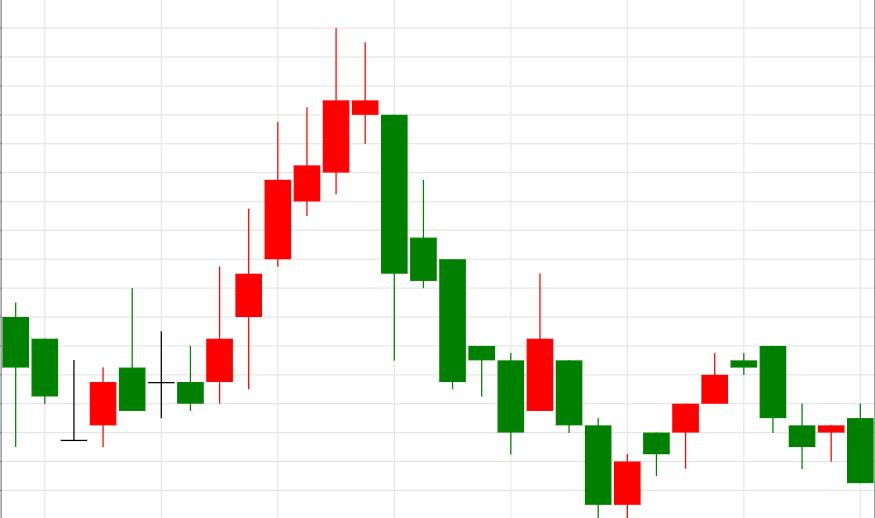evening_star_fall: (205, 28, 408, 405)
